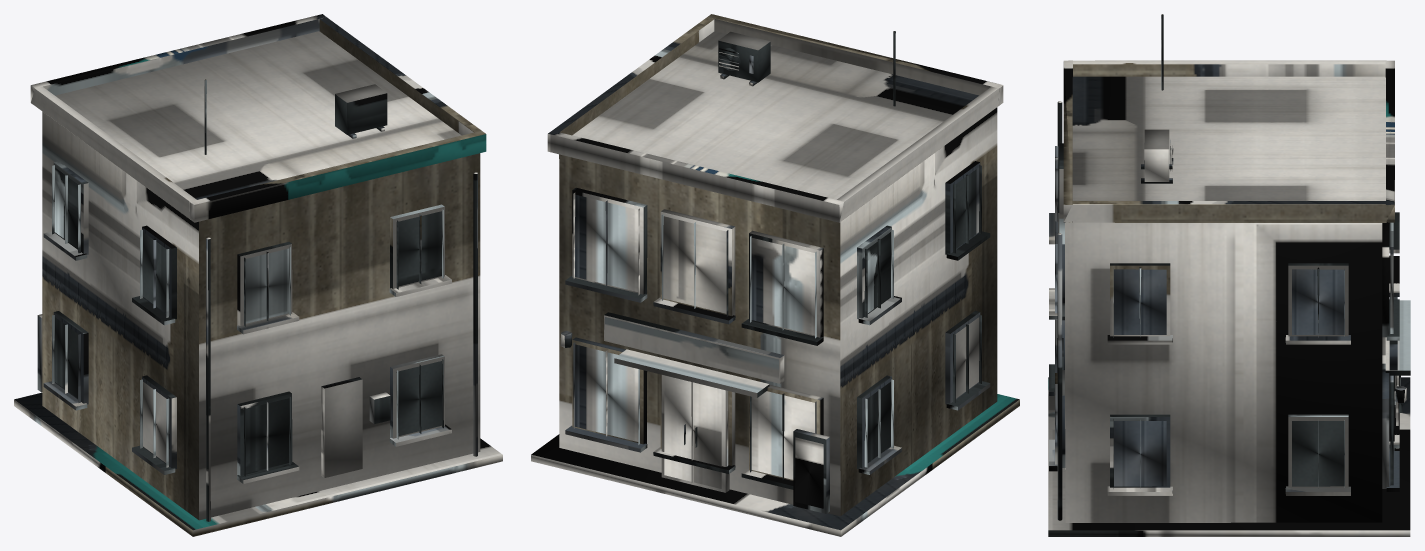
File: public_003.lod1.obj
3 views of the same model, side by side, from view 1: azimuth 30°, elevation 25°; view 2: azimuth 150°, elevation 25°; view 3: azimuth 270°, elevation 25° (orthographic).
Visible parts, largest first — view 1: public_003; view 2: public_003; view 3: public_003.
Part boxes in pixels (box(x1,y1,x2,y2)): public_003: box(14, 14, 502, 536); public_003: box(531, 14, 1019, 536); public_003: box(1048, 14, 1410, 536).
Size of the model in its own units: 6.5 by 8 by 6.51.
1 material, 1 textured.
